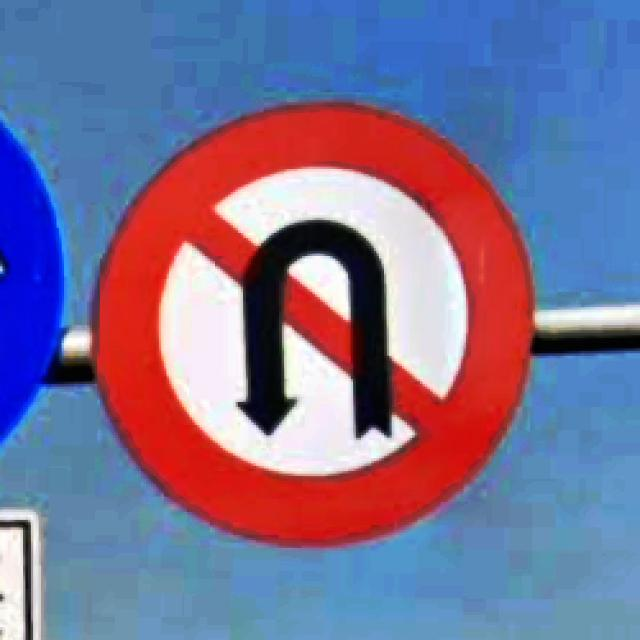nouturn: (92, 102, 535, 548)
